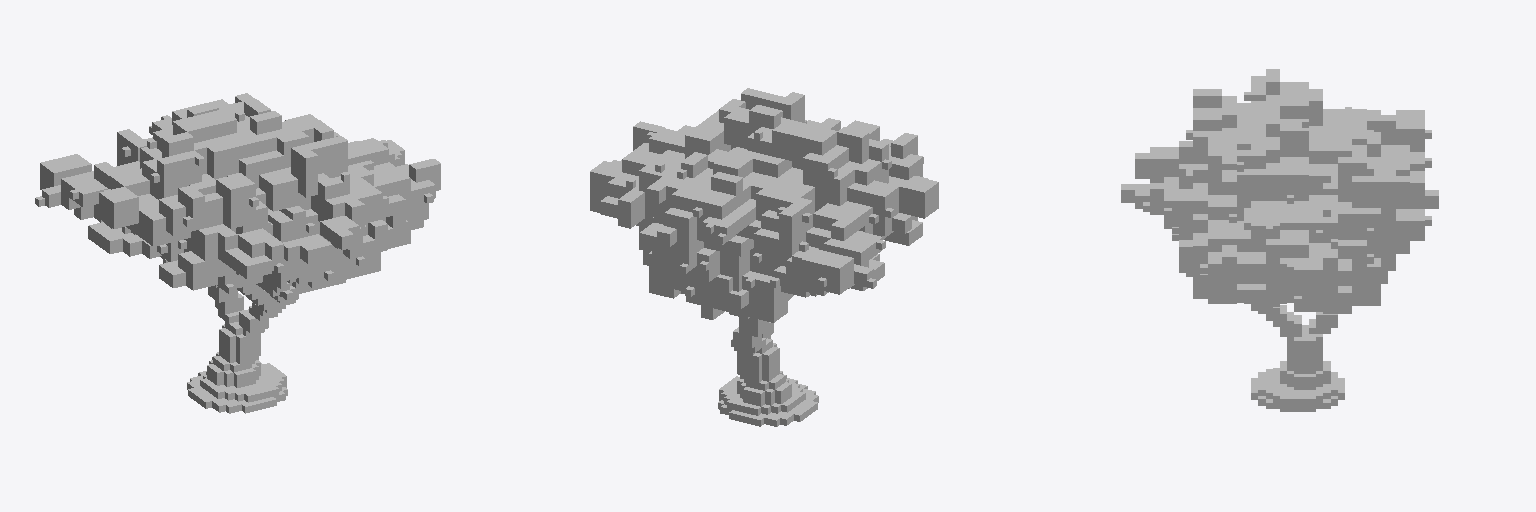
The model's file is 2_1 acer.vox.obj.
3 views of the same model, side by side, from view 1: azimuth 30°, elevation 25°; view 2: azimuth 150°, elevation 25°; view 3: azimuth 270°, elevation 25° (orthographic).
Parts seen in each view (by area): view 1: object 1; view 2: object 1; view 3: object 1.
Boxes of the visible parts, box(x1,y1,x2,y2) form: object 1: box(35, 93, 440, 413); object 1: box(590, 88, 938, 426); object 1: box(1121, 69, 1438, 411).
Bounding box in the file's own units: 5.2 × 4.3 × 4.4.